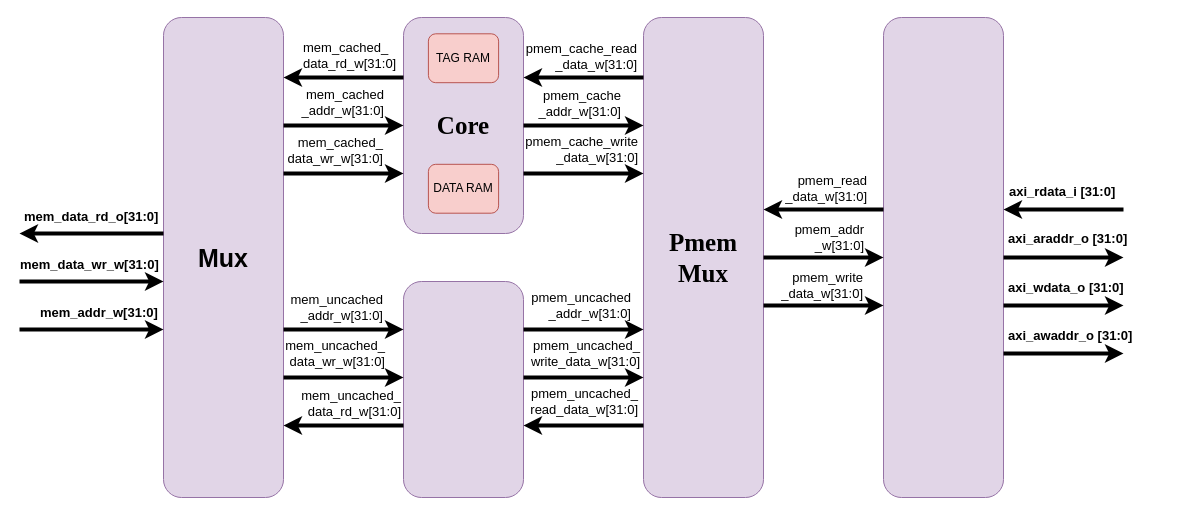
The diagram is 1187 pixels wide and 515 high, and some of its shapes have lost their labels. The shapes that lost their labels are listed below. From the top down, each one's centre as x and y in pixels, then its label:
pixel 943 257: Axi
pixel 463 389: Uncache
